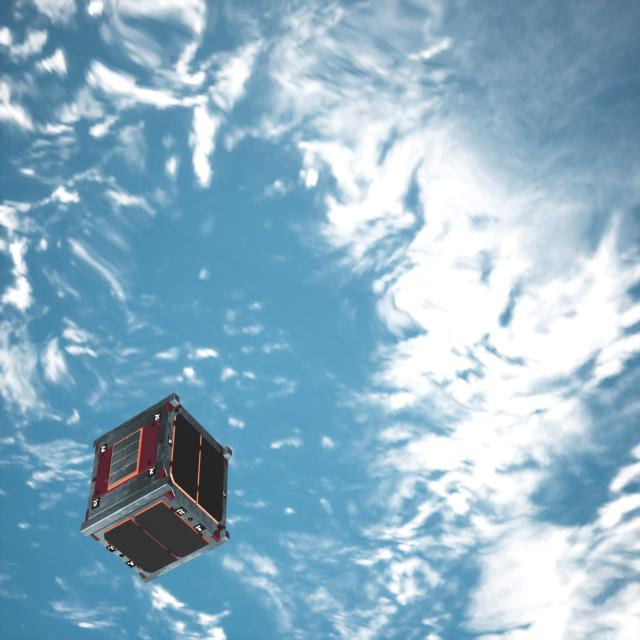satellite: (77, 389, 236, 586)
